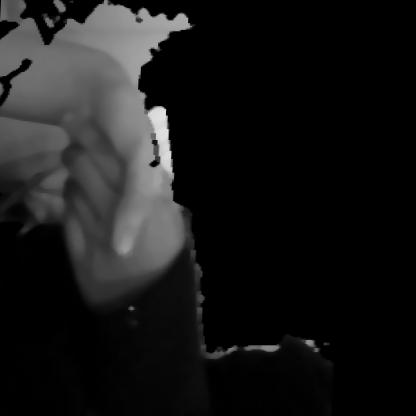handshake: (0, 48, 244, 340)
